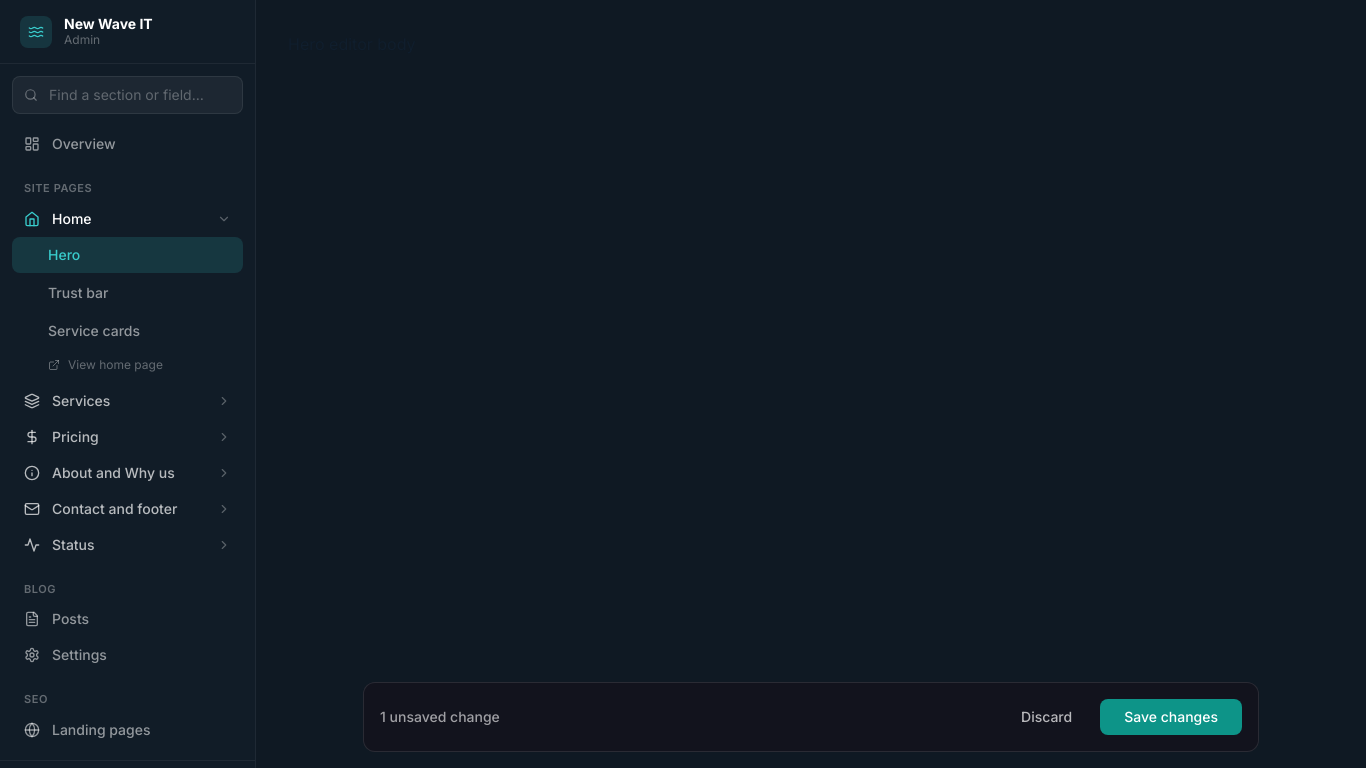
AdminLayout sidebar › shows the publish bar only while something is unsaved
Expected: the text "1 unsaved change" is shown, [380,707,500,727]
Expected: the button "Save changes" is enabled, [1100,699,1242,735]
Click the button "Discard" at (1047, 717), box [1005,699,1088,735]
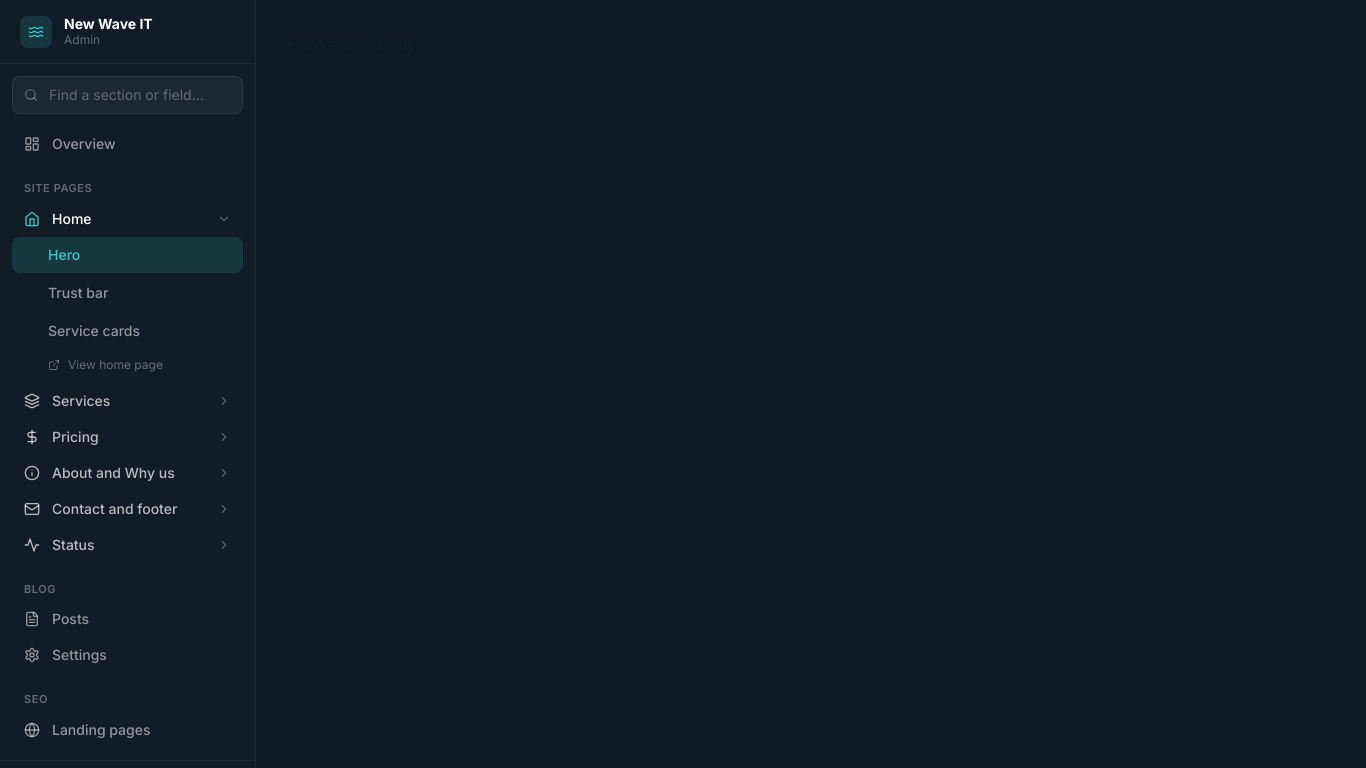
Result: the button "Save changes" is gone
